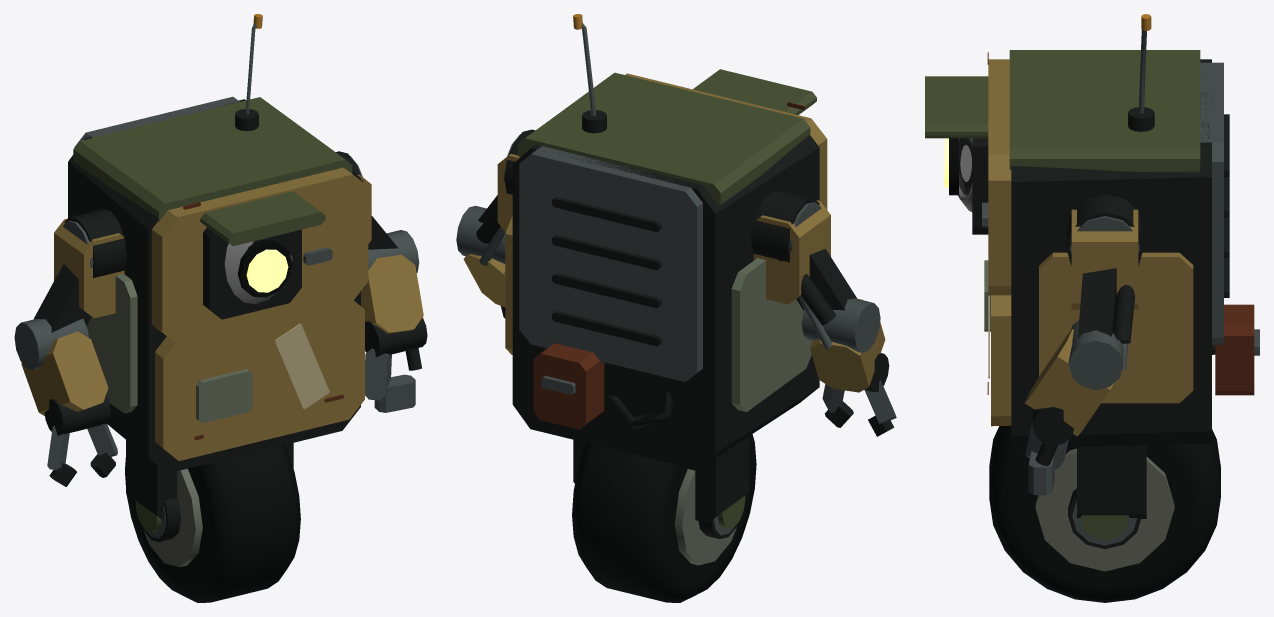
Rendered from KLONK.lo.glb.
3 renders of one model, left to right at view 1: azimuth 30°, elevation 25°; view 2: azimuth 150°, elevation 25°; view 3: azimuth 270°, elevation 25°, orthographic. The views are drawn at different scales.
Parts seen in each view (by area): view 1: body_geometry, wheel_geometry, armL_geometry, armR_geometry; view 2: body_geometry, wheel_geometry, armL_geometry, armR_geometry; view 3: body_geometry, wheel_geometry, armR_geometry.
Boxes of the visible parts, box(x1,y1,x2,y2) form: body_geometry: box(64, 14, 368, 538); wheel_geometry: box(125, 445, 300, 602); armL_geometry: box(14, 218, 124, 486); armR_geometry: box(350, 156, 427, 412); body_geometry: box(504, 14, 827, 535); wheel_geometry: box(572, 434, 756, 602); armL_geometry: box(753, 200, 896, 436); armR_geometry: box(456, 134, 520, 318); body_geometry: box(925, 14, 1259, 545); wheel_geometry: box(989, 425, 1220, 602); armR_geometry: box(1025, 209, 1139, 495).
Size of the model in its own units: 0.5896 by 0.8005 by 0.4007.
Materials: 2 (1 with a texture image).
